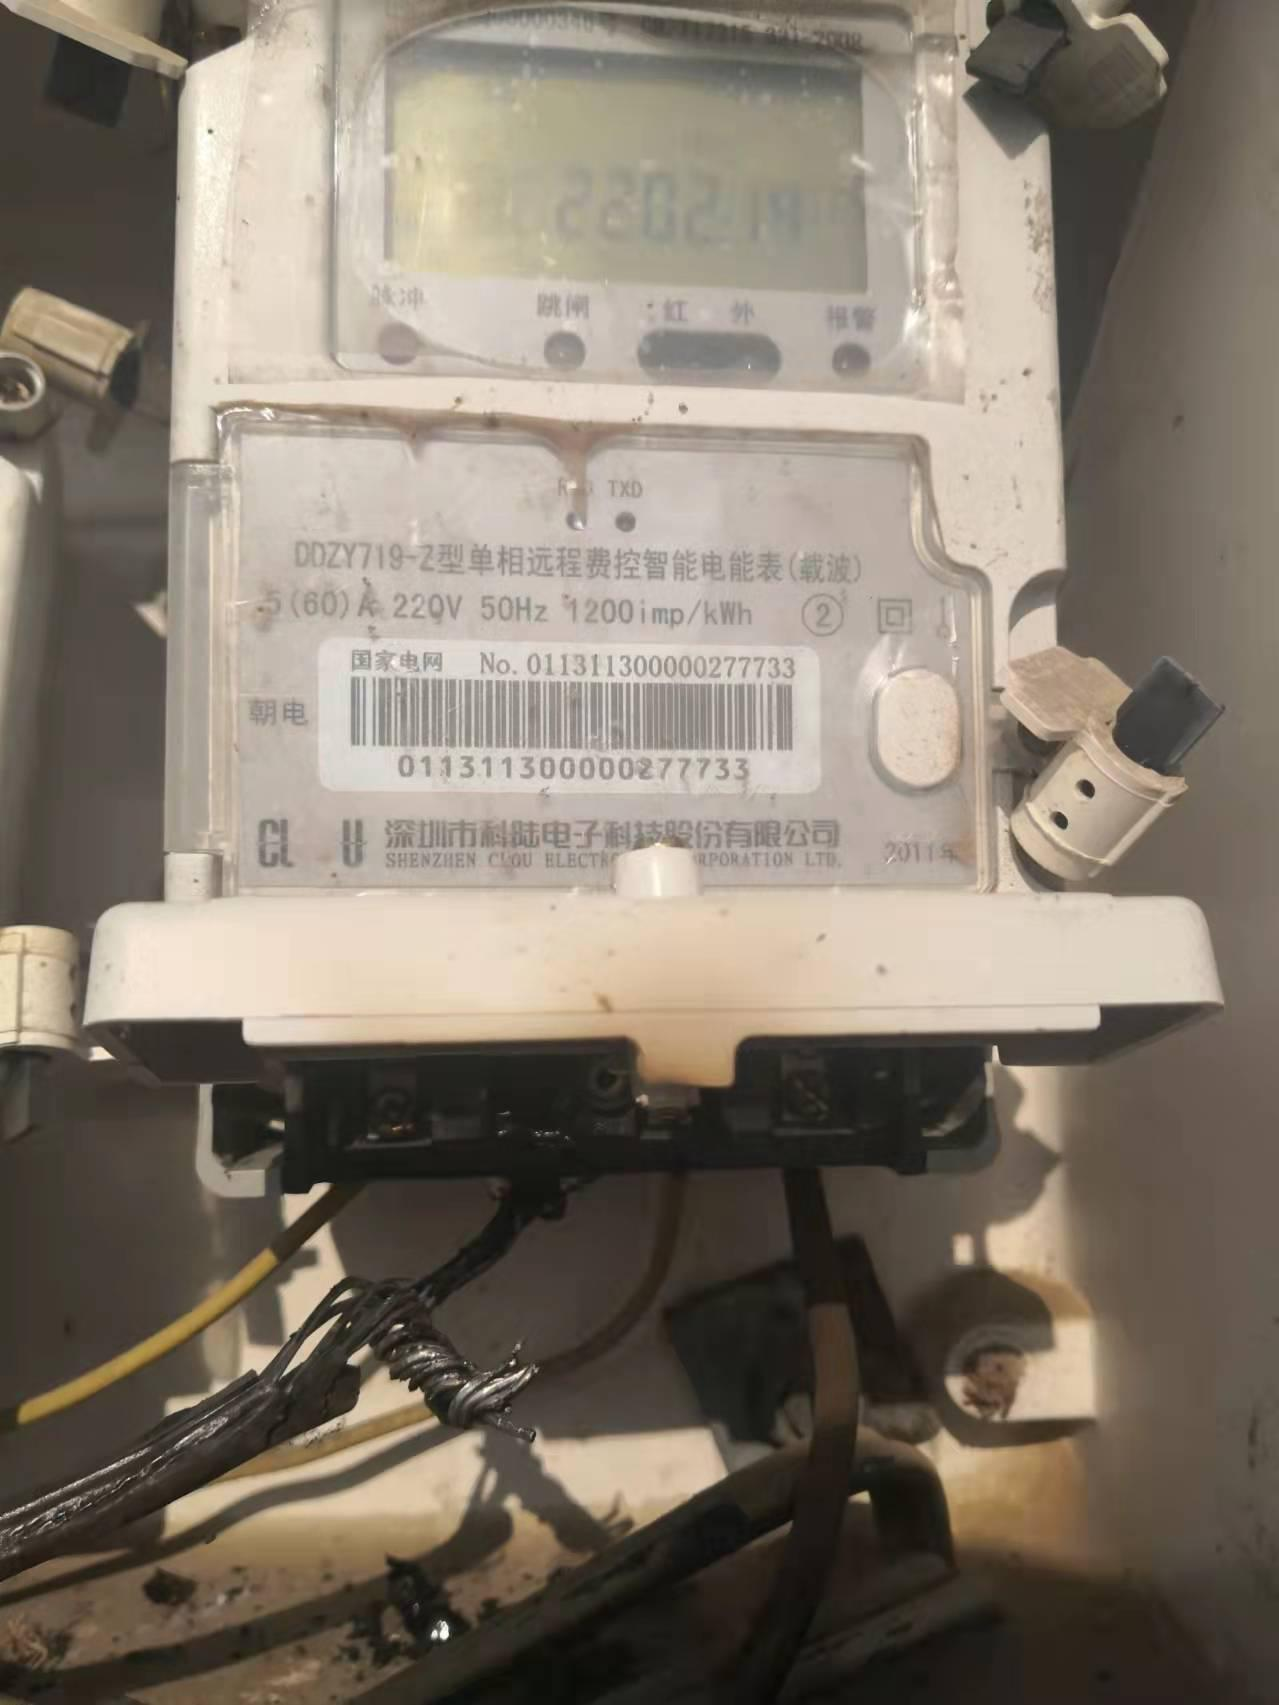digital: (164, 12, 1069, 898)
